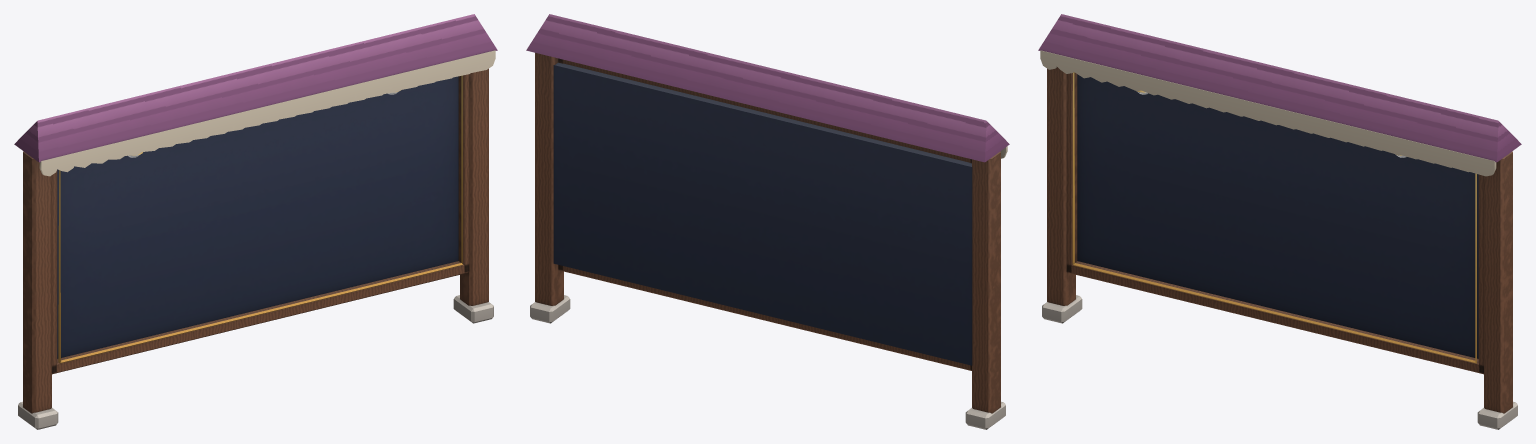
Rendered from depot_board.fbx.
3 renders of one model, left to right at view 1: azimuth 30°, elevation 25°; view 2: azimuth 150°, elevation 25°; view 3: azimuth 330°, elevation 25°, orthographic.
Parts seen in each view (by area): view 1: depot_board; view 2: depot_board; view 3: depot_board.
Boxes of the visible parts, x1,y1,x2,y2 form: depot_board: (14, 14, 497, 429); depot_board: (526, 14, 1009, 429); depot_board: (1038, 14, 1521, 429).
Size of the model in its own units: 1596 by 1000 by 150.
2 materials, 1 textured.
